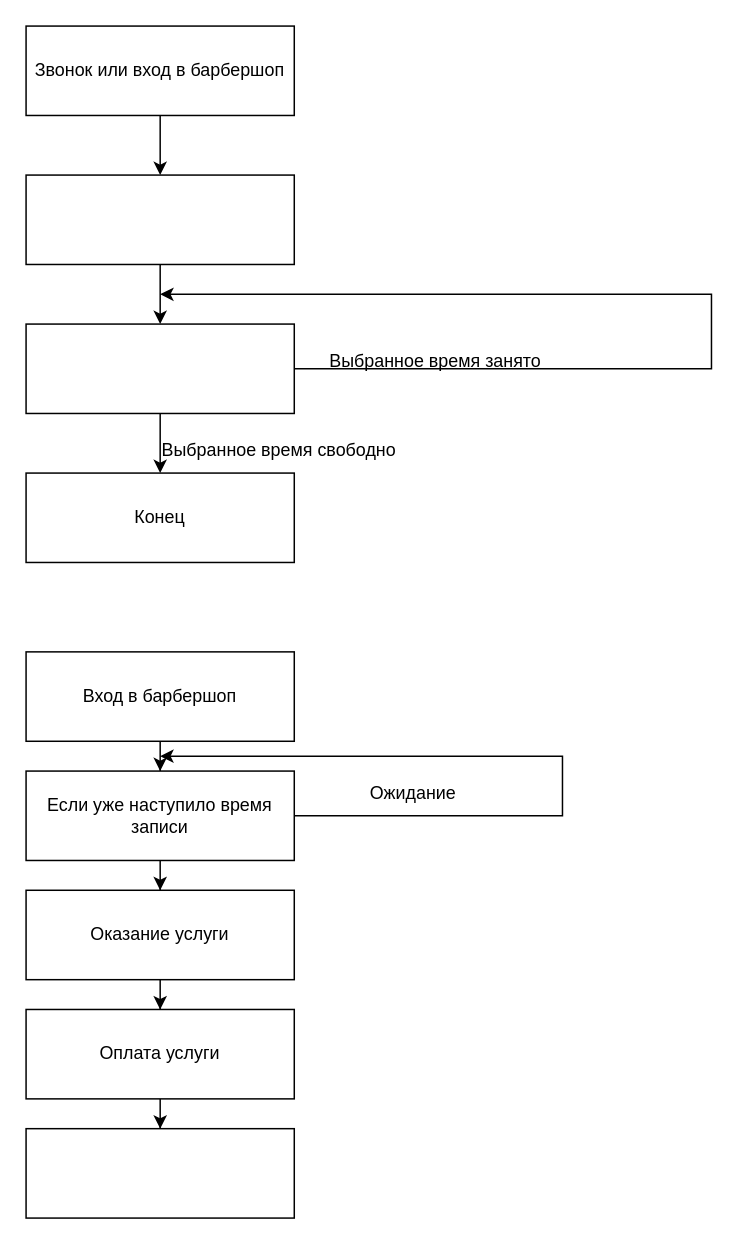
This 749x1244 diagram has some shape labels left out. The shapes that lost their labels are listed below. From the top down, each one's box as (x1, y1, x2, y2) in pixels, then its label:
(25, 174, 294, 264): Выбор услуги
(25, 323, 294, 413): Запись по времени и дате
(25, 1127, 294, 1218): Выход из салона
